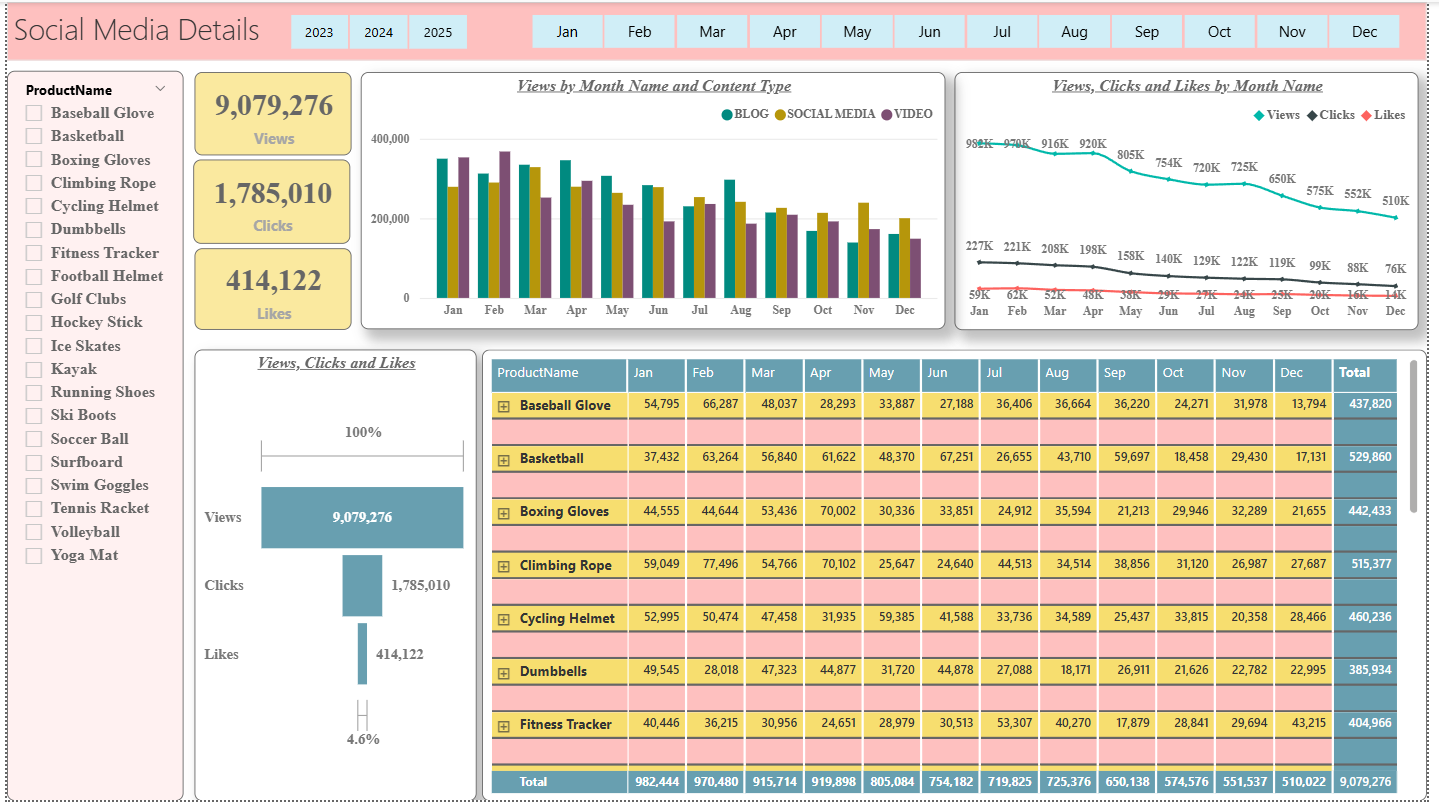

What the dashboard file says about the page in this screenshot:
{"tool":"powerbi","page":{"name":"Social Media Details","canvas":[1280,720],"ordinal":2},"visuals":[{"type":"textbox","box":[0,0,1280,52.6],"z":0},{"type":"slicer","fields":{"Values":["Calendar.Year"]},"box":[230.2,4.1,208.5,44.4],"z":1000},{"type":"slicer","fields":{"Values":["Calendar.MonthNameShort"]},"box":[447.7,4.6,832.3,43.7],"z":2000},{"type":"slicer","fields":{"Values":["dim_products.ProductName"]},"box":[0,61.5,159.5,658.5],"z":3000},{"type":"card","fields":{"Values":["_Calculations.Views"]},"box":[168.6,62.8,141.9,75.6],"z":4000},{"type":"card","fields":{"Values":["_Calculations.Clicks"]},"box":[168.5,142,142,75.8],"z":5000},{"type":"card","fields":{"Values":["_Calculations.Likes"]},"box":[168.6,222.1,141.9,73.3],"z":6000},{"type":"funnel","fields":{"Y":["_Calculations.Views","_Calculations.Clicks","_Calculations.Likes"]},"box":[168.6,312.8,254.7,407],"z":7000},{"type":"lineChart","title":"Views, Clicks and Likes by Month Name","fields":{"Y":["_Calculations.Views","_Calculations.Clicks","_Calculations.Likes"],"Category":["Calendar.MonthNameShort"]},"box":[854.7,62.8,418.6,232.6],"z":8000},{"type":"pivotTable","fields":{"Rows":["dim_products.ProductName","fact_engagement.ContentType"],"Columns":["Calendar.MonthNameShort"],"Values":["_Calculations.Views"]},"box":[427.9,312.8,852.3,407],"z":9000},{"type":"clusteredColumnChart","title":"Views by Month Name and Content Type","fields":{"Category":["Calendar.MonthNameShort"],"Series":["fact_engagement.ContentType"],"Y":["_Calculations.Views"]},"box":[319,63.1,527.5,232.2],"z":10000}]}

Visuals, with their boxes in screenshot pixels (x1, y1, x2, y2), scaled from the page's 1280x720 canvas onto the 1439x810 screenshot:
textbox: bbox=(0, 0, 1438, 59)
slicer - Calendar.Year: bbox=(259, 5, 493, 55)
slicer - Calendar.MonthNameShort: bbox=(503, 5, 1438, 54)
slicer - dim_products.ProductName: bbox=(0, 69, 179, 809)
card - _Calculations.Views: bbox=(190, 71, 349, 156)
card - _Calculations.Clicks: bbox=(189, 160, 349, 245)
card - _Calculations.Likes: bbox=(190, 250, 349, 332)
funnel - _Calculations.Views x _Calculations.Clicks: bbox=(190, 352, 476, 809)
"Views, Clicks and Likes by Month Name" lineChart: bbox=(961, 71, 1431, 332)
pivotTable - dim_products.ProductName x fact_engagement.ContentType: bbox=(481, 352, 1438, 809)
"Views by Month Name and Content Type" clusteredColumnChart: bbox=(359, 71, 952, 332)
